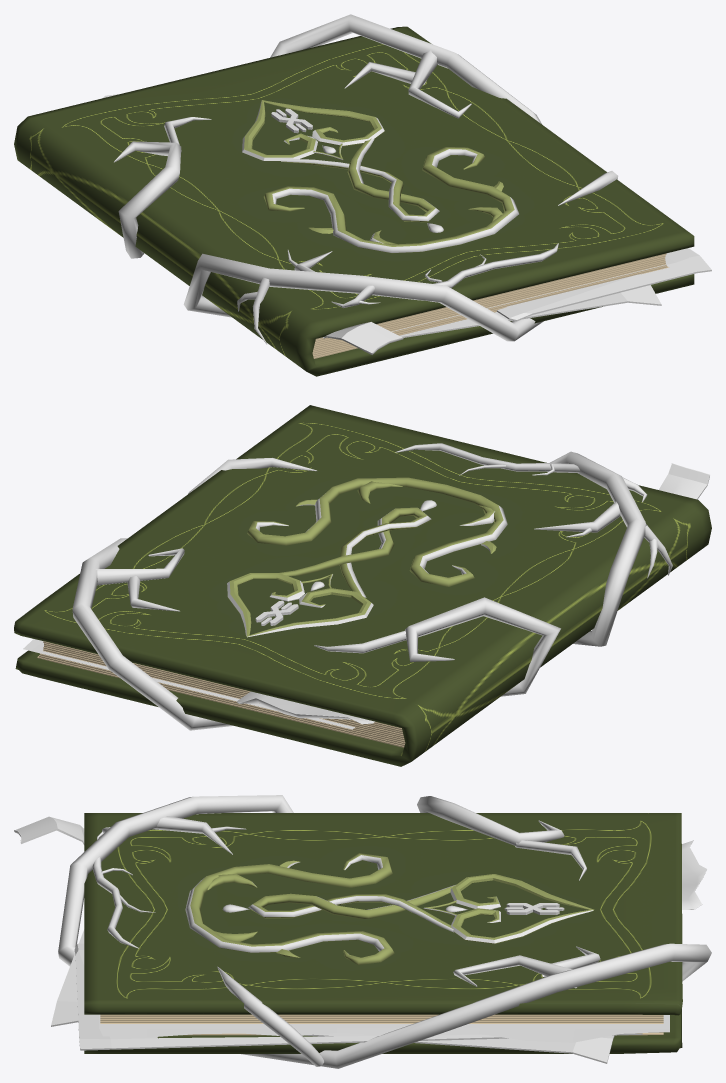
Rendered from grimoire book.fbx.
The picture shows the model from 3 angles, top to bottom: view 1: azimuth 30°, elevation 25°; view 2: azimuth 150°, elevation 25°; view 3: azimuth 270°, elevation 25°; orthographic projection. The views are drawn at different scales.
Visible parts, largest first — view 1: GimorsBook; view 2: GimorsBook; view 3: GimorsBook.
Boxes of the visible parts, <box> form: GimorsBook: <box>14,14,711,376</box>; GimorsBook: <box>14,405,711,766</box>; GimorsBook: <box>14,795,711,1068</box>.
Bounding box in the file's own units: 49.03 × 11.25 × 65.96.
